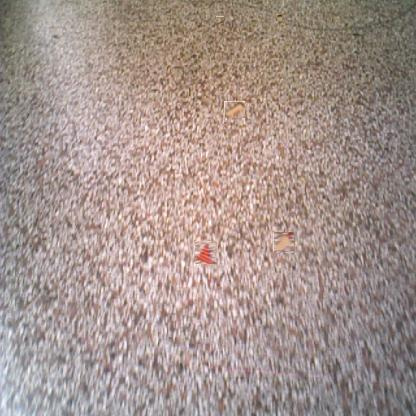dirty: (194, 241, 216, 263), (274, 232, 294, 253), (224, 101, 245, 118), (217, 16, 224, 24), (276, 13, 282, 21)
